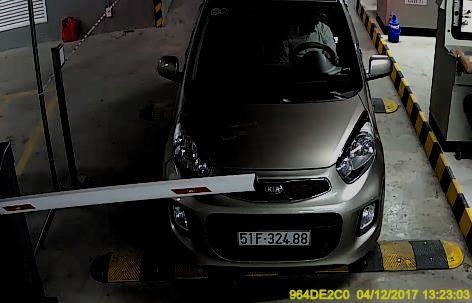plate: (236, 226, 312, 246)
